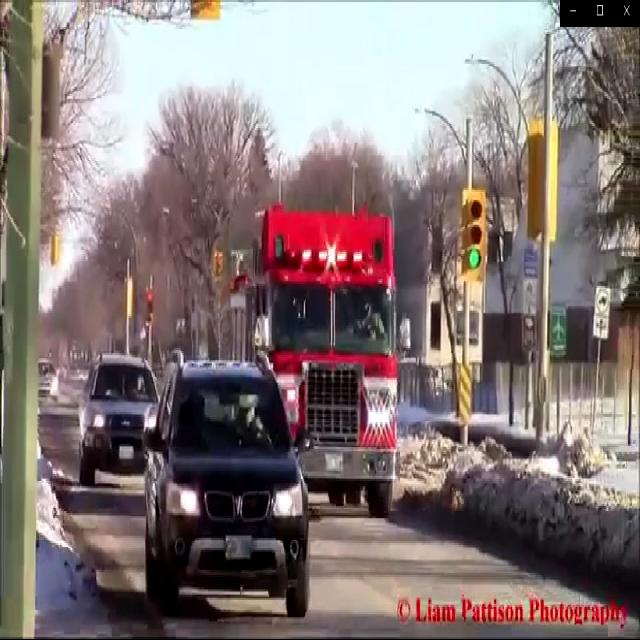emergency: (270, 218, 399, 501)
